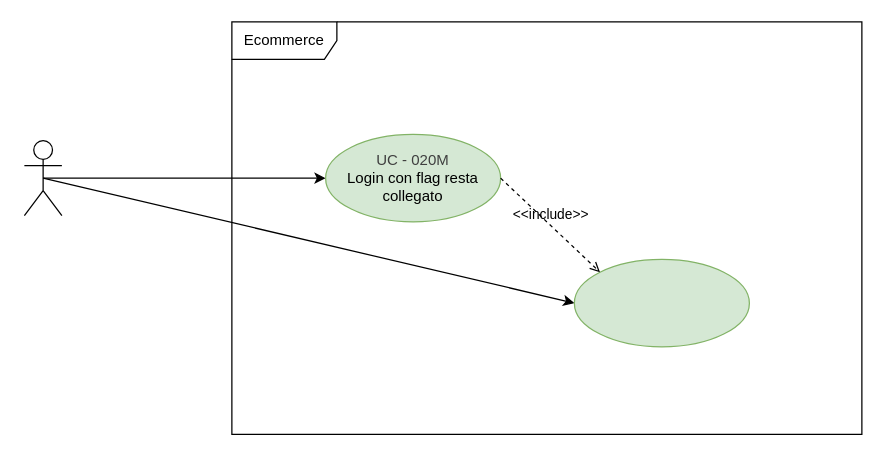
This 884x456 diagram has some shape labels left out. The centre of each missing label's shape, as x and y in pixels:
UC - 010 M Logout: (661,302)
Utente: (42,177)
